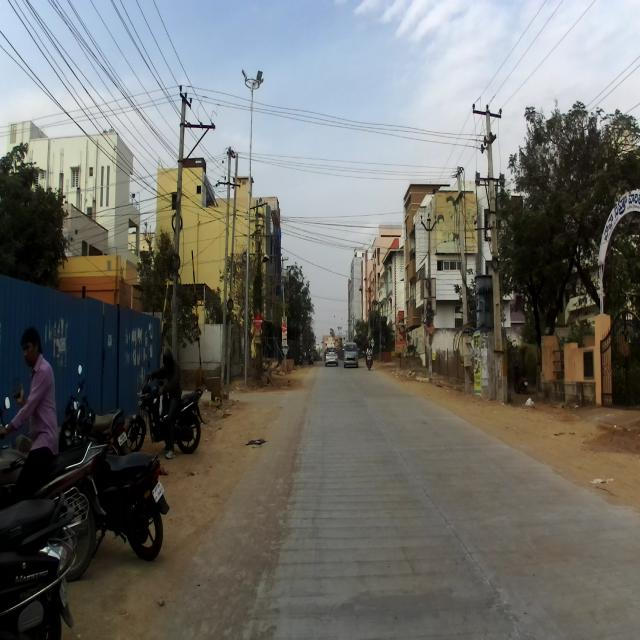motorcycle ahead at: (0, 490, 76, 640), (98, 445, 171, 561), (130, 376, 206, 458)
